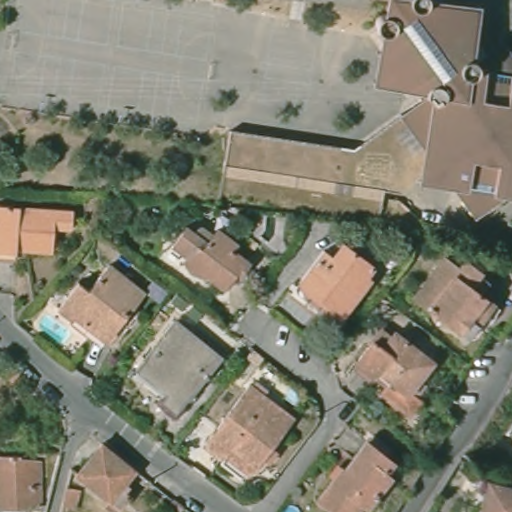pool: (38, 312, 73, 347)
